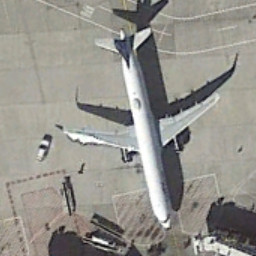Airplane: (58, 25, 243, 238)
